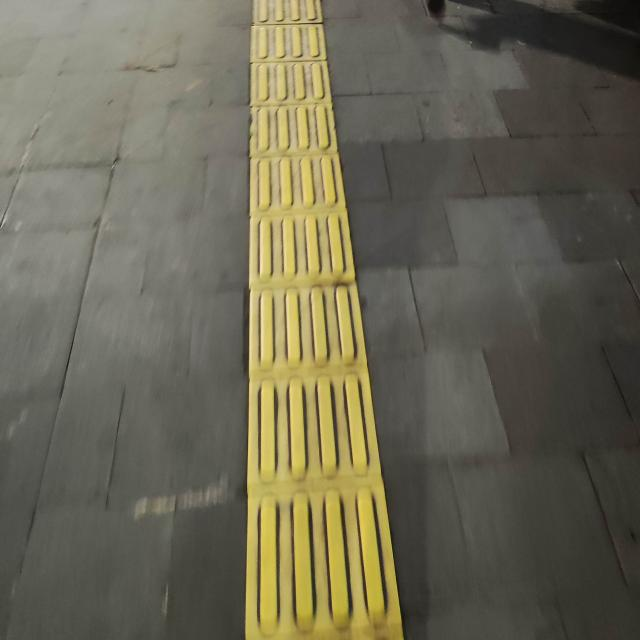lurus: (238, 0, 404, 640)
